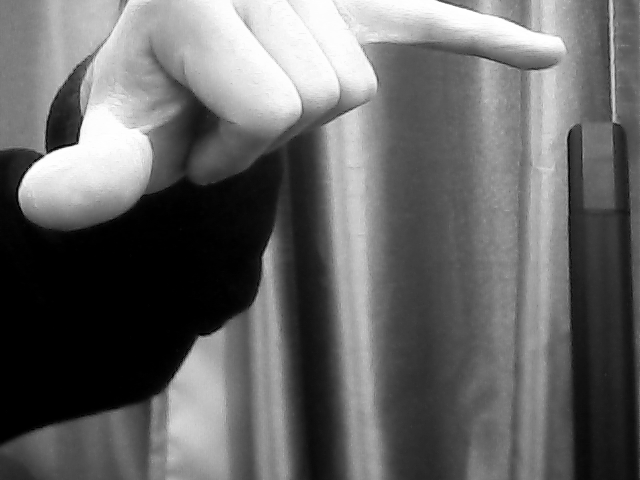aloha: (16, 1, 568, 238)
